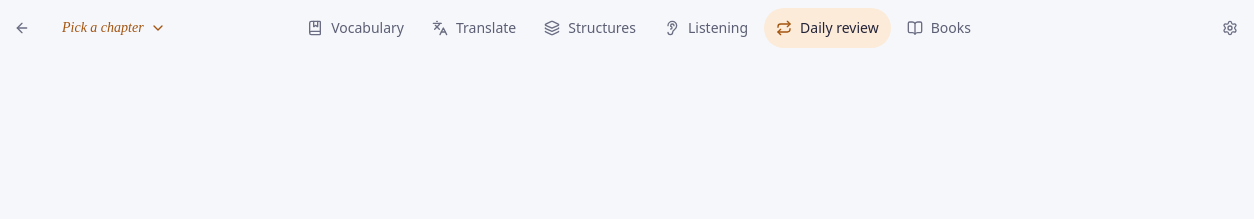
Test: TopBar › with books and no chapter on, the title asks for one
What coordinates should you click on to do the following:
click the button "Pick a chapter"
I would click on:
 (114, 28)
Its box is [50,8,178,48].
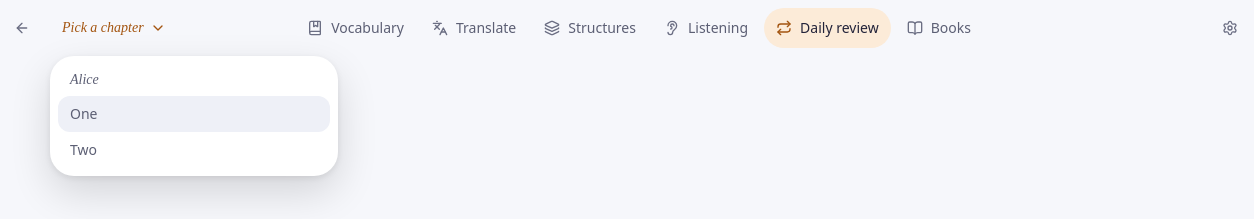
Expected: the list is shown, [50,56,338,176]
